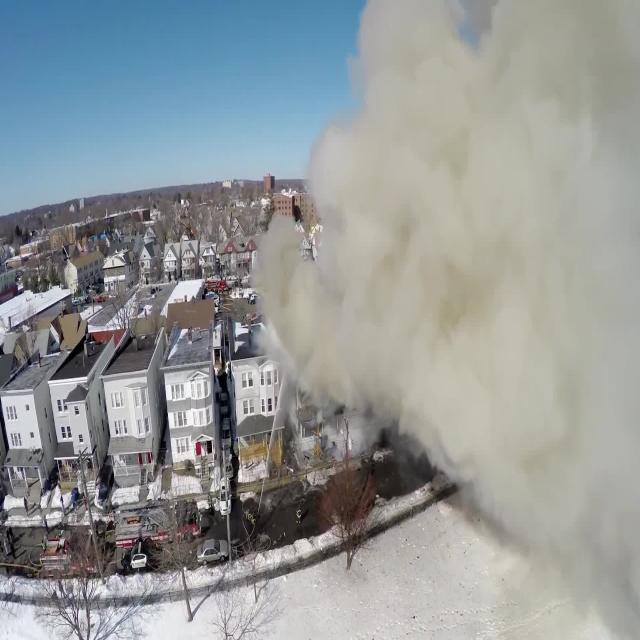Smoke: (259, 0, 640, 564)
